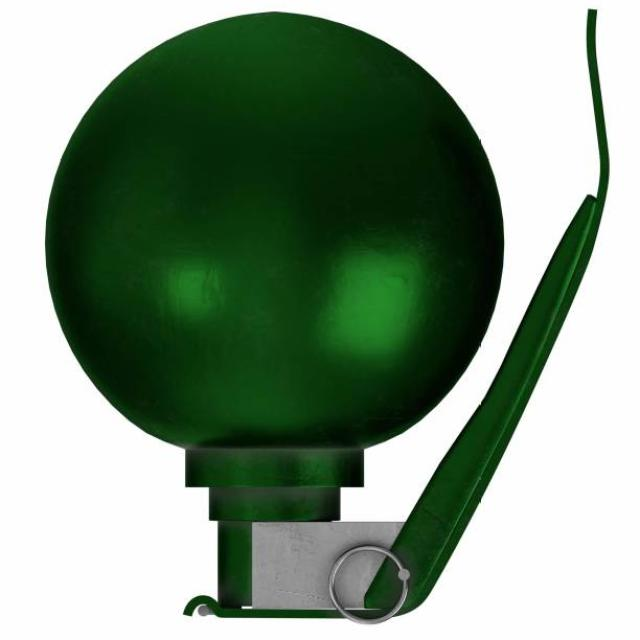grenade: (39, 7, 621, 630)
